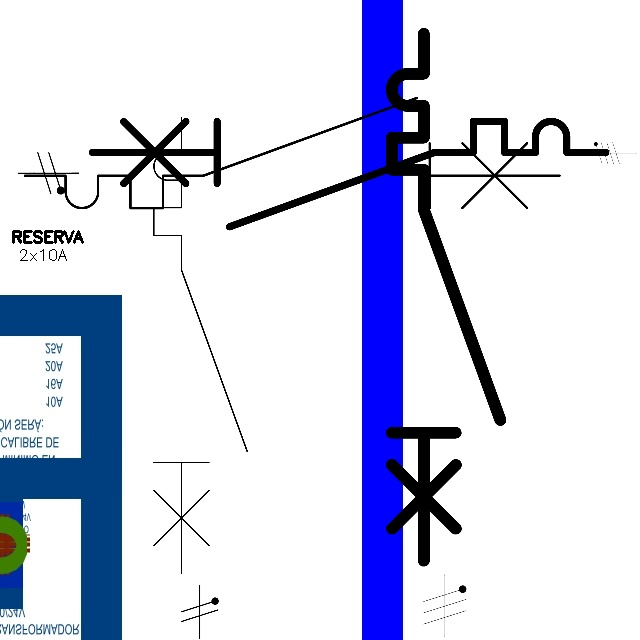interruptor_termomagnetico: (11, 84, 573, 222), (378, 20, 513, 574), (79, 108, 619, 240), (142, 106, 259, 584)
